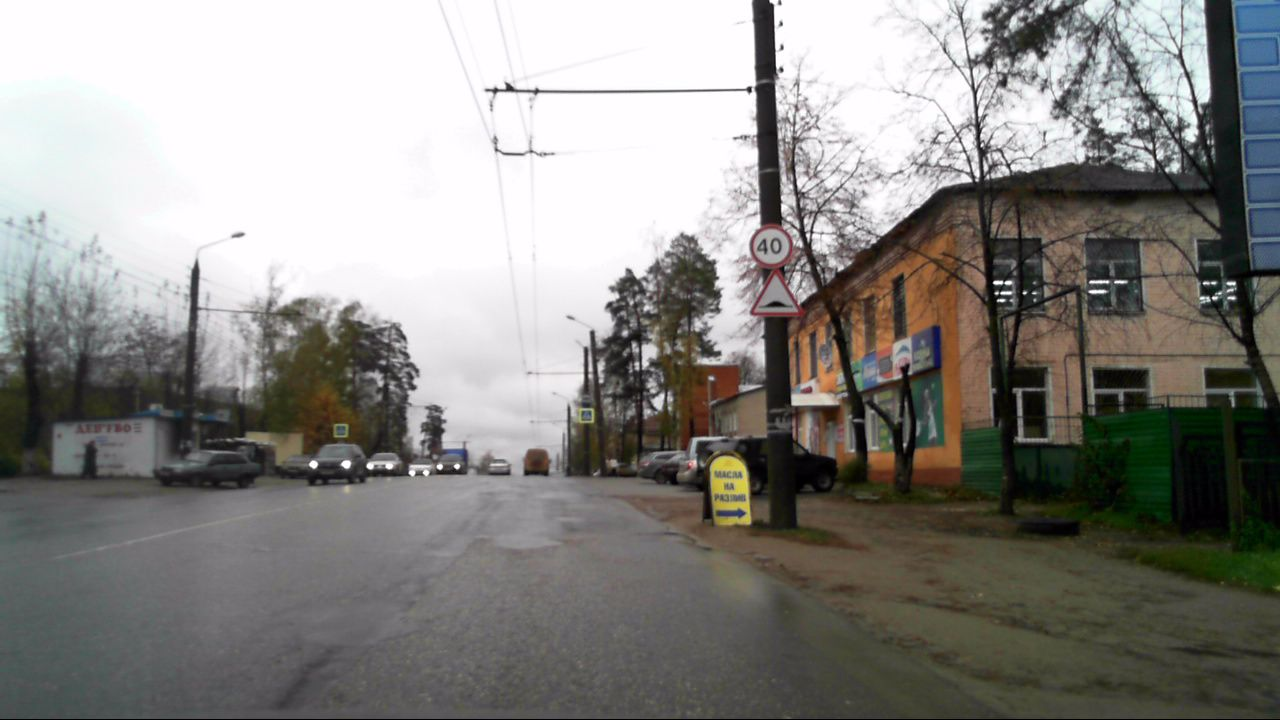speed_warning_40: (747, 223, 793, 268)
